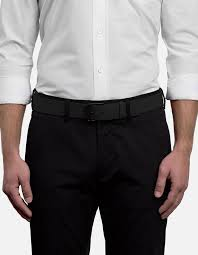F_belt: (26, 84, 172, 124)
F_dress pants: (18, 109, 175, 255)
